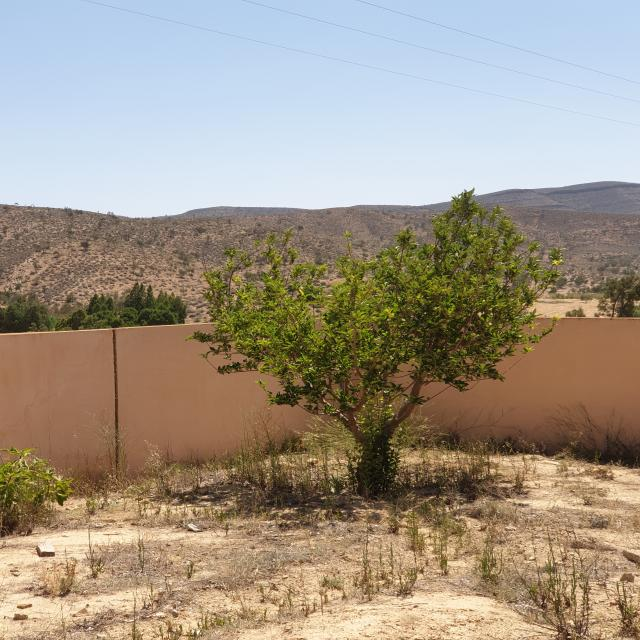Tree: (192, 191, 563, 497)
